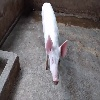heo: (41, 33, 70, 87)
